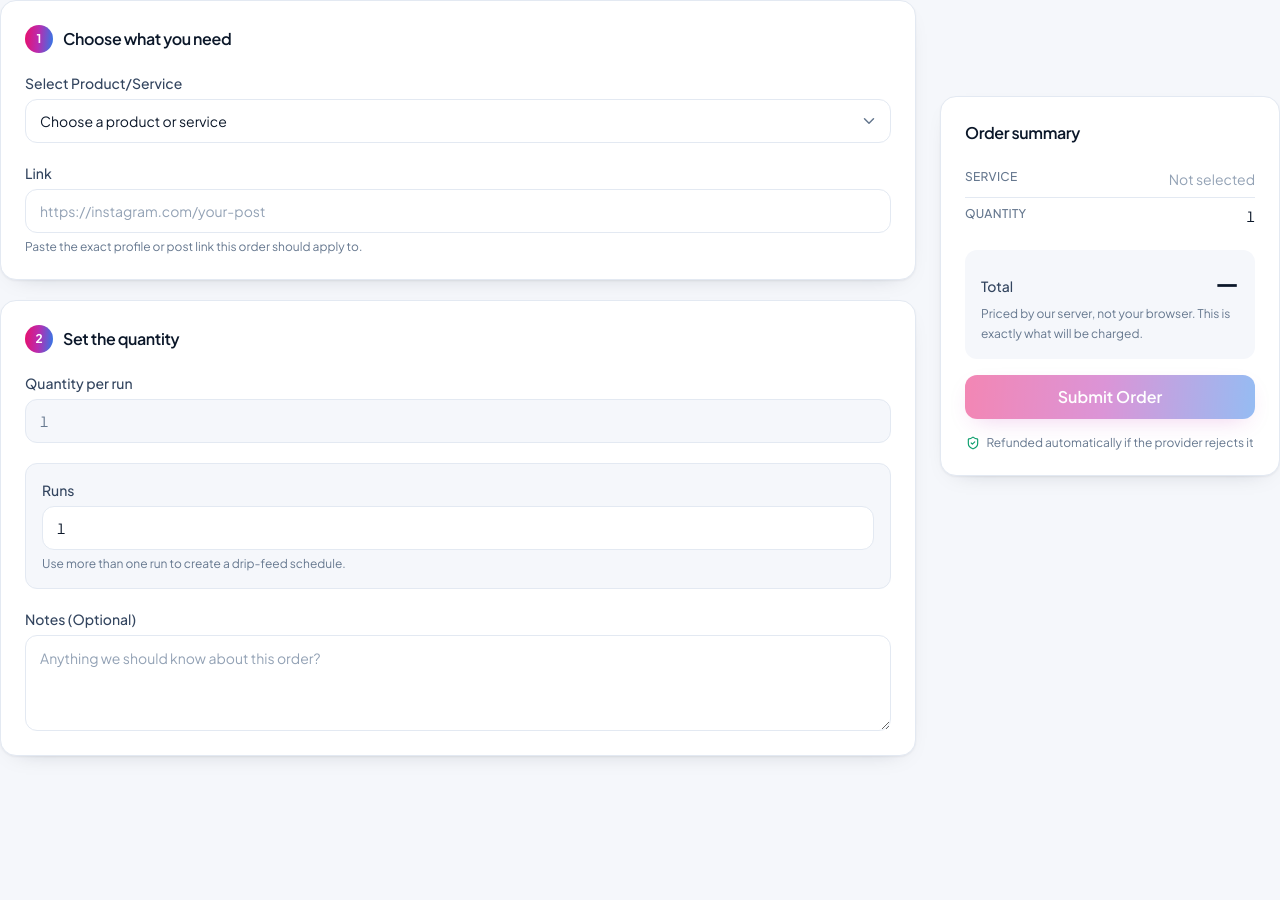
Test: OrderForm › blocks submission and surfaces the reason when the server cannot price the order
The width and height of the screenshot is (1280, 900).
Select "Followers (Rate: ₹125 per 1000)" in the dropdown labelled "Select Product/Service" at [458, 121], box [25,99,891,143]
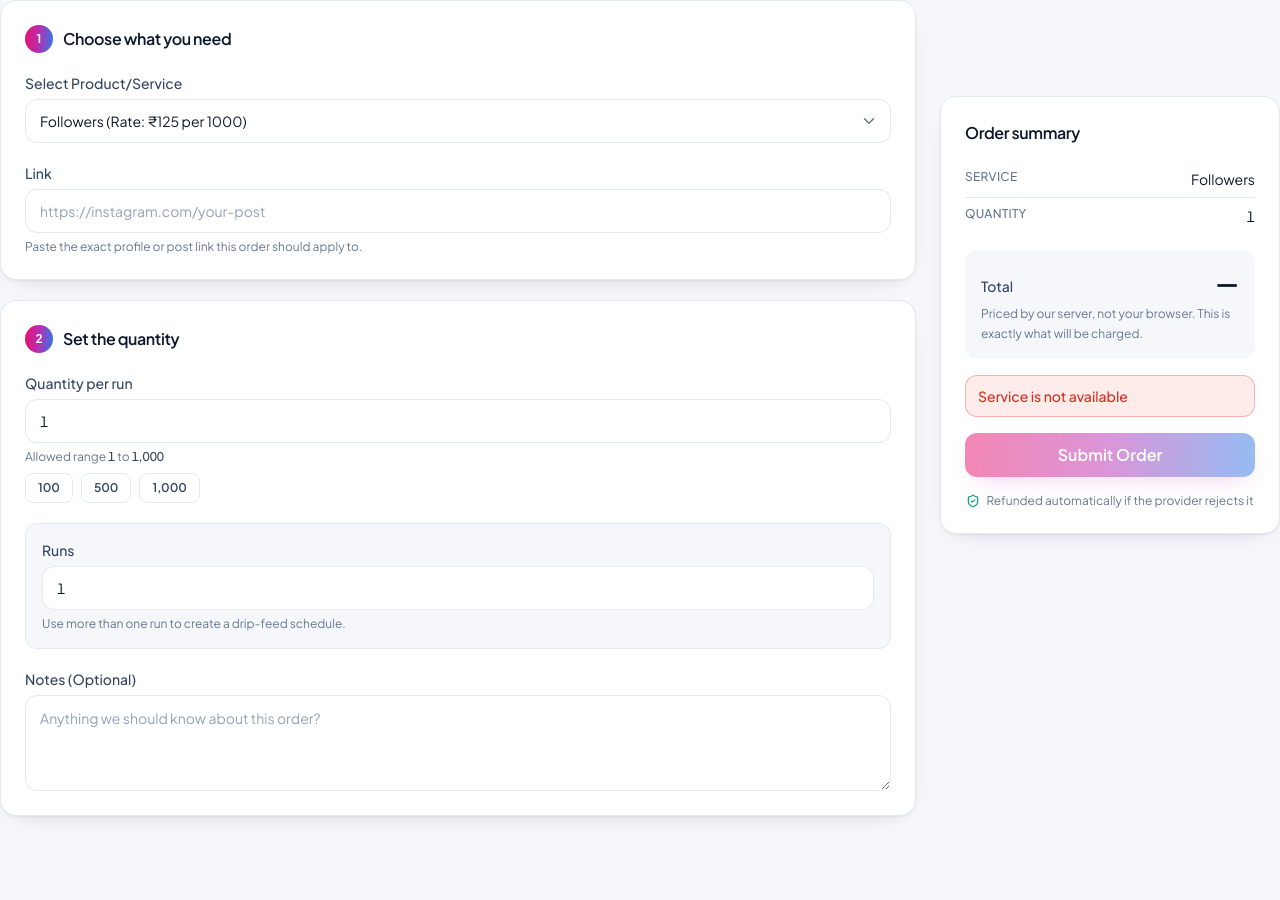
Expected: the button "Submit Order" is disabled, [965,433,1255,477]
Now the text "Service is not available" is shown, box [965,375,1255,417]
